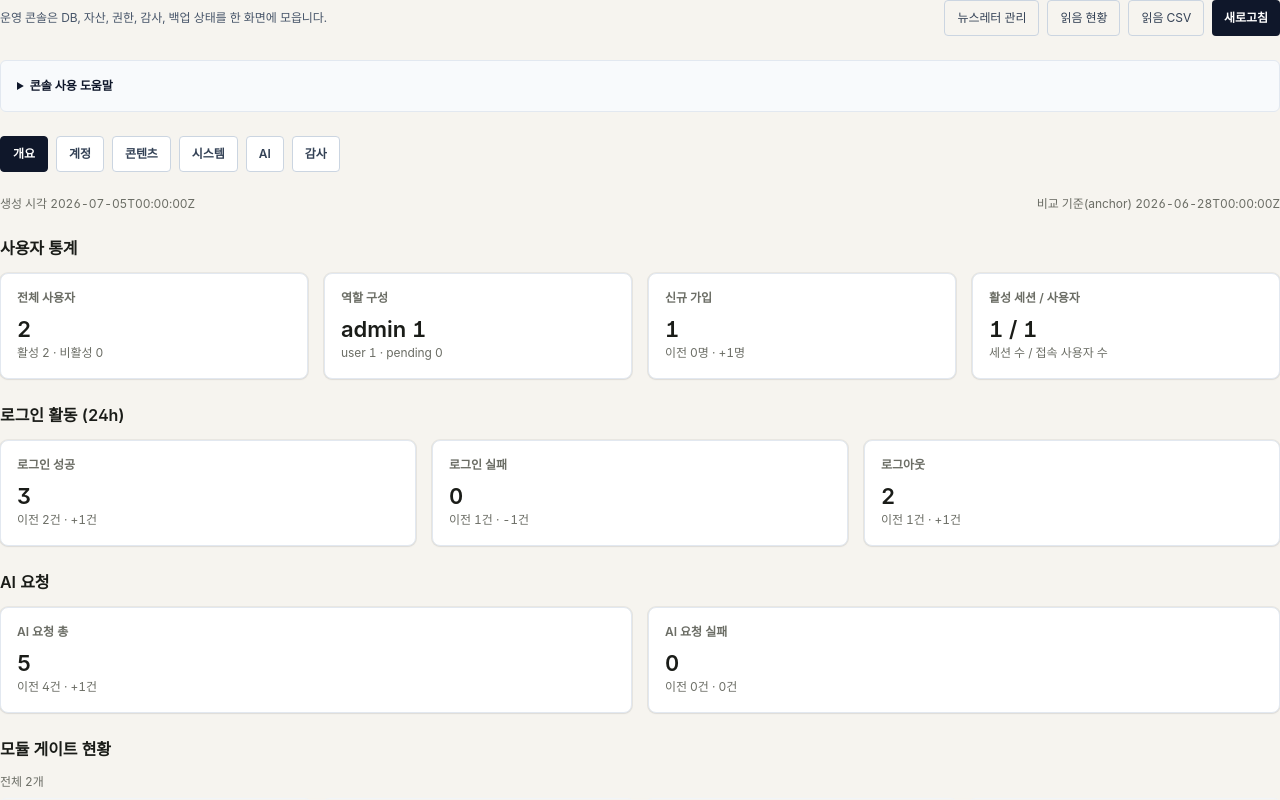
Scenario: staged-config test uses the current canonical_url/model/generation with the runtime empty-string CSRF token and reports the safe reason label on failure
Click the tab "AI" at (265, 154), box [246,136,284,172]
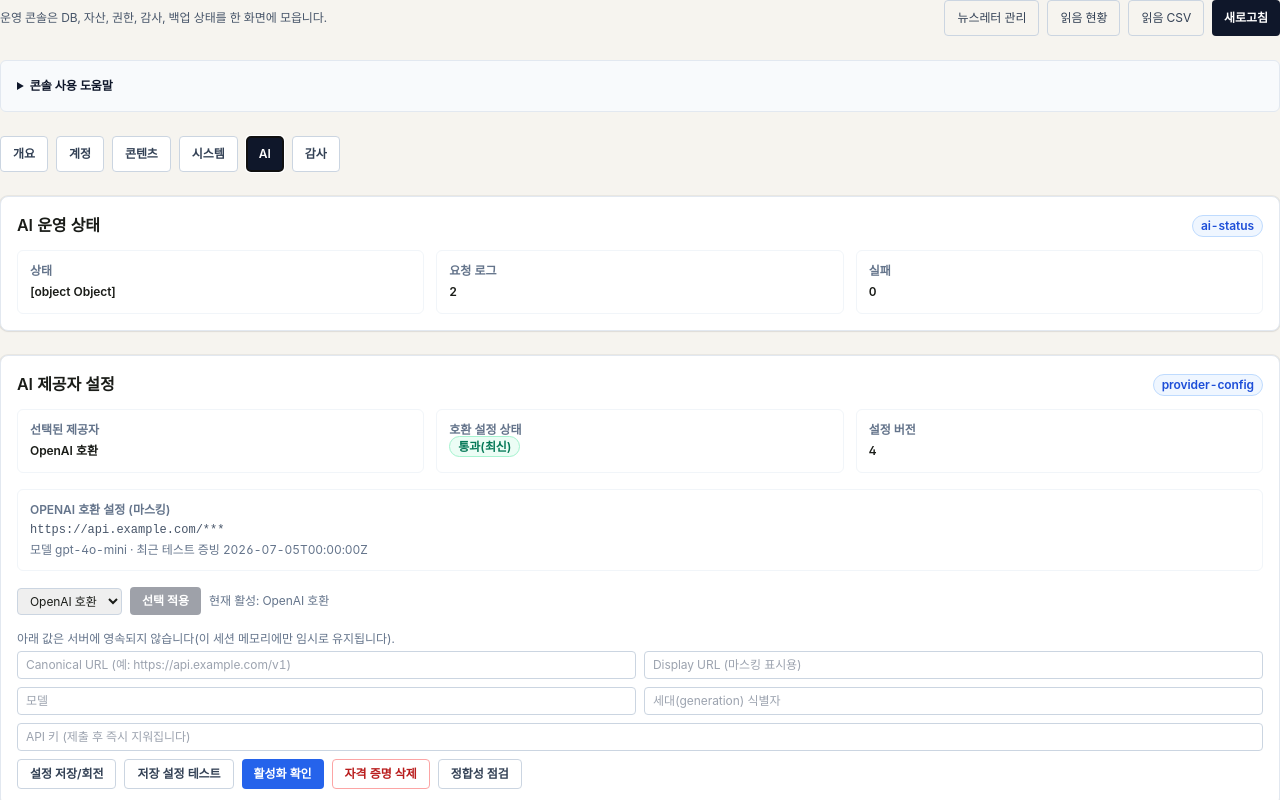
Type "https://internal.example.net/v1" into the field named "compatible canonical url" at (326, 665), box [17,651,636,679]
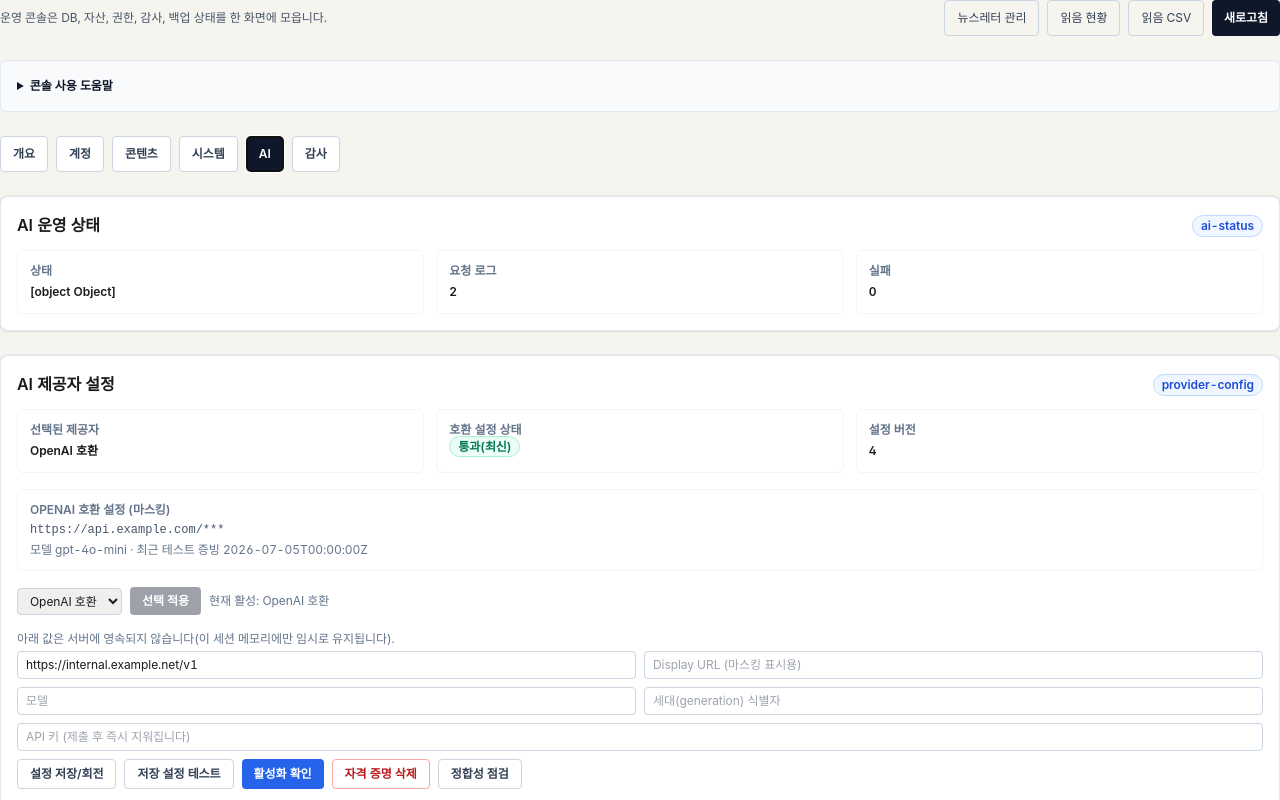
Type "gpt-4o-mini" into the field named "compatible model" at (326, 701), box [17,687,636,715]
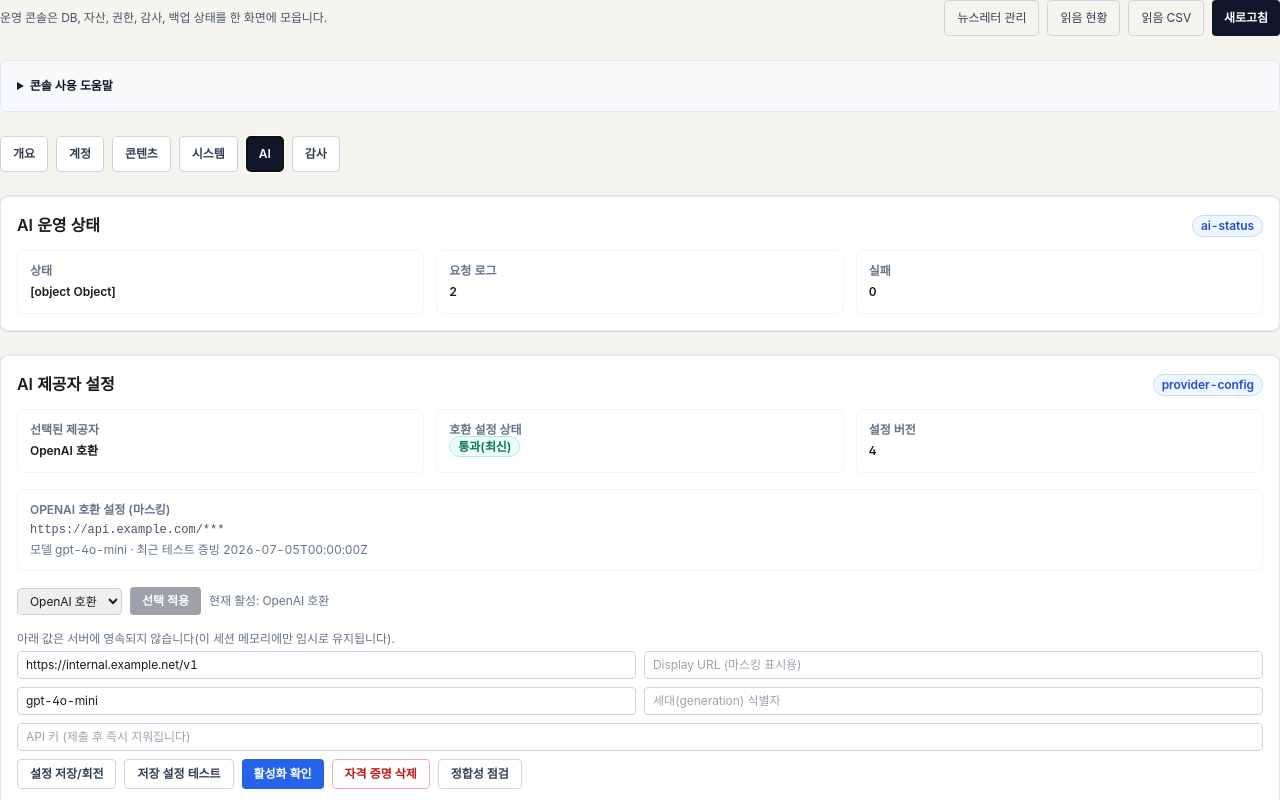
Type "gen-3" into the field named "compatible generation" at (954, 701), box [644,687,1263,715]
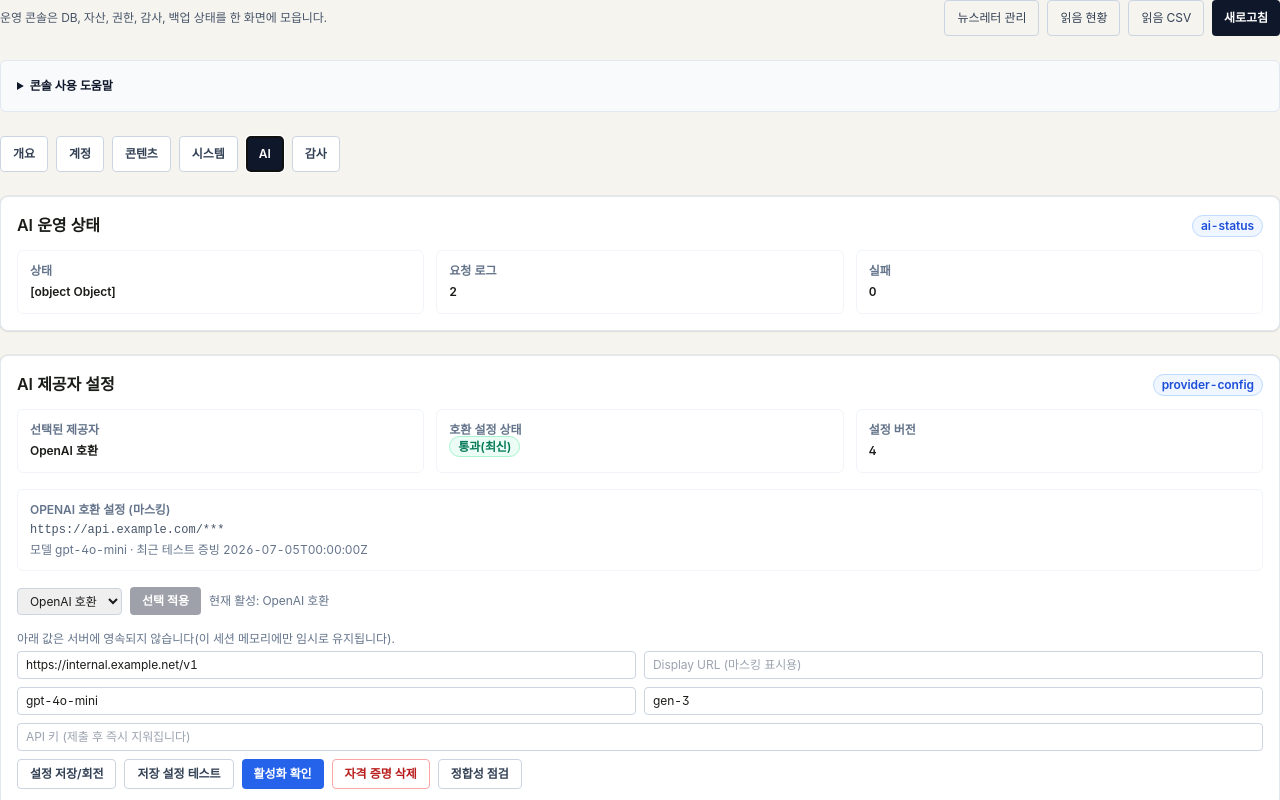
Click the button "저장 설정 테스트" at (179, 774), box [124,759,234,789]
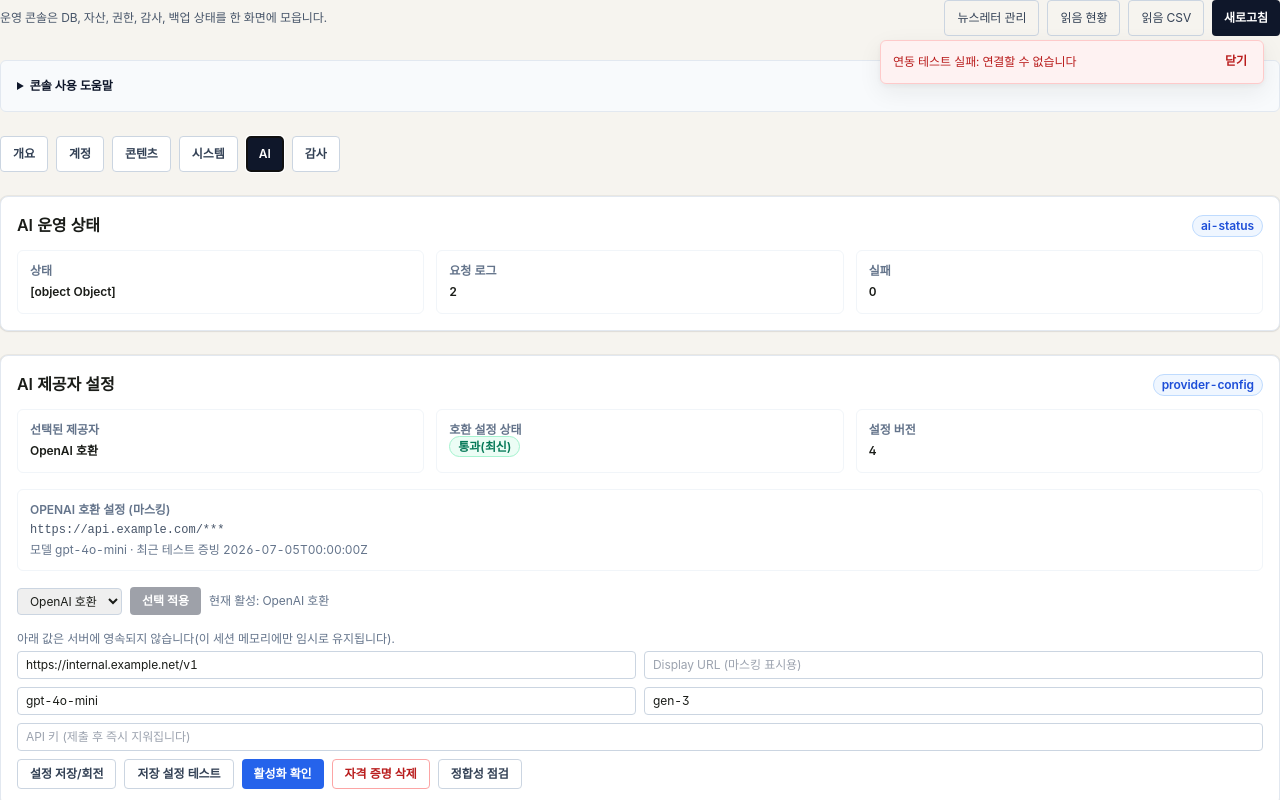
Result: the text "연동 테스트 실패: 연결할 수 없습니다" is shown at [893,53,1076,71]
